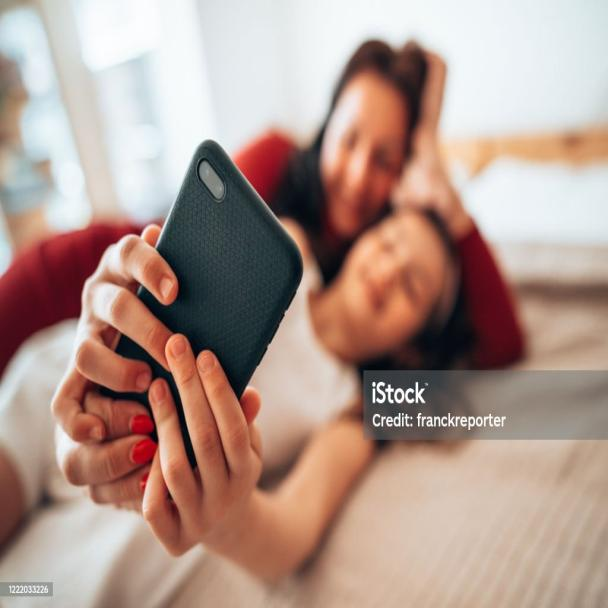Handphone: (84, 134, 305, 516)
